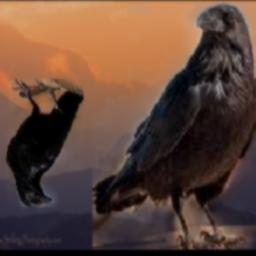Crow: (92, 4, 256, 250), (7, 79, 85, 207)
